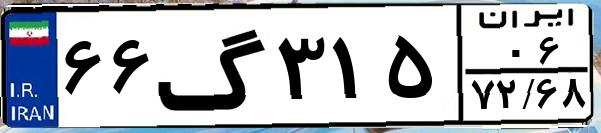0: (508, 27, 537, 80)
1: (330, 28, 385, 110)
2: (495, 70, 520, 125)
3: (270, 28, 330, 110)
5: (385, 28, 445, 110)
6: (57, 26, 110, 100), (110, 28, 156, 98), (537, 27, 568, 80), (535, 70, 560, 125)
7: (470, 70, 495, 125)
8: (560, 70, 590, 125)
گ: (156, 12, 270, 120)
